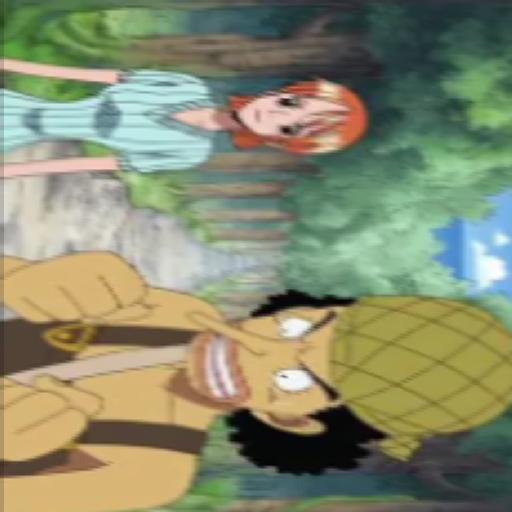Nami: (0, 52, 379, 183)
Usopp: (0, 245, 506, 512)
